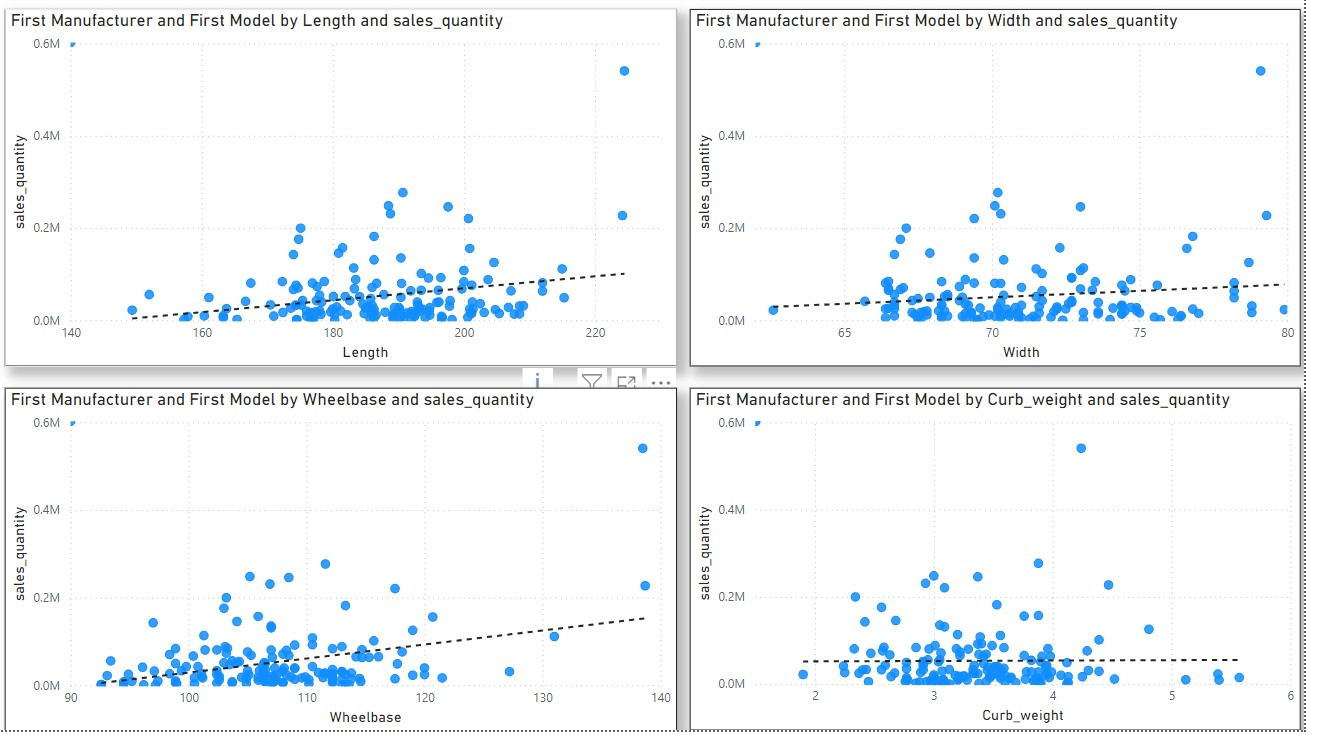

The dashboard page shown, as its layout file describes it:
{"tool":"powerbi","page":{"name":"Correlation (Exterior)","canvas":[1280,720],"ordinal":3},"visuals":[{"type":"scatterChart","title":"Length and  sales_quantity ","fields":{"X":["Car_sales.Length"],"Y":["Car_sales. sales_quantity "]},"box":[8.4,14.5,493.4,349.9],"z":0},{"type":"scatterChart","title":"Width and  sales_quantity ","fields":{"X":["Car_sales.Width"],"Y":["Car_sales. sales_quantity "]},"box":[515.2,14.5,465.7,349.9],"z":1000},{"type":"scatterChart","title":"Wheelbase and  sales_quantity ","fields":{"X":["Car_sales.Wheelbase"],"Y":["Car_sales. sales_quantity "]},"box":[8.4,384.9,493.4,336.6],"z":2000},{"type":"scatterChart","title":"Curb_weight and  sales_quantity ","fields":{"X":["Car_sales.Curb_weight"],"Y":["Car_sales. sales_quantity "]},"box":[515.2,384.9,465.7,335.4],"z":3000},{"type":"textbox","box":[990.5,14.5,289.5,705.8],"z":3001}]}

Visuals, with their boxes in screenshot pixels (x1, y1, x2, y2), scaled from the page's 1280x720 canvas onto the 1326x735 screenshot:
"Length and  sales_quantity " scatterChart: {"x1": 9, "y1": 15, "x2": 520, "y2": 372}
"Width and  sales_quantity " scatterChart: {"x1": 534, "y1": 15, "x2": 1016, "y2": 372}
"Wheelbase and  sales_quantity " scatterChart: {"x1": 9, "y1": 393, "x2": 520, "y2": 734}
"Curb_weight and  sales_quantity " scatterChart: {"x1": 534, "y1": 393, "x2": 1016, "y2": 734}
textbox: {"x1": 1026, "y1": 15, "x2": 1325, "y2": 734}
